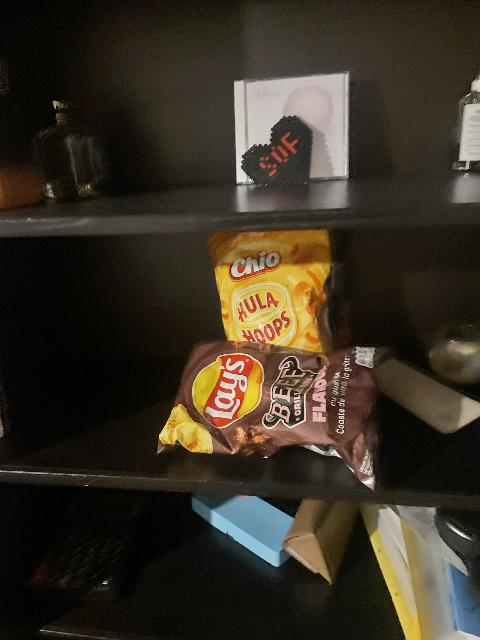Chio Hula Hoops Cheese 70g: (207, 231, 336, 351)
Lays Beef Grilled Ribs 125g: (166, 342, 397, 481)
